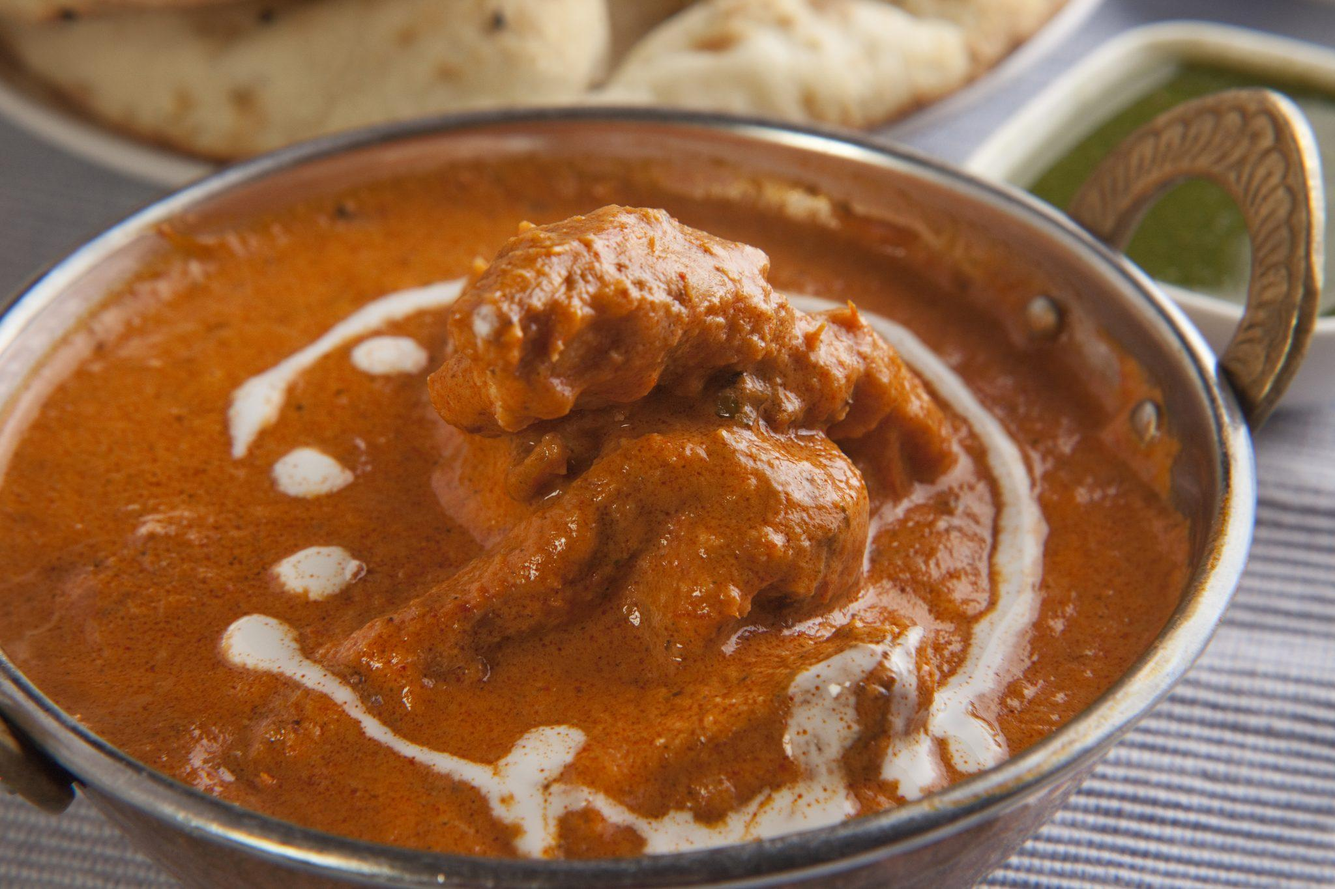chicken: (0, 142, 1184, 889)
